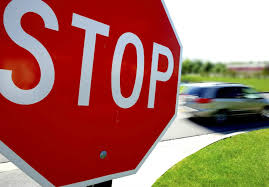SS: (0, 1, 192, 187)
